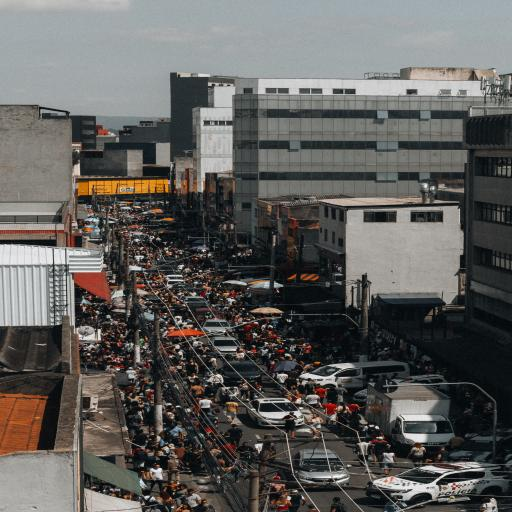car: (367, 463, 508, 506), (300, 361, 409, 388), (293, 449, 350, 487), (247, 398, 304, 426), (221, 361, 261, 386), (395, 375, 449, 391), (210, 335, 240, 355), (202, 319, 231, 333), (195, 308, 221, 321), (184, 296, 207, 310), (497, 430, 511, 452), (165, 273, 183, 281)
